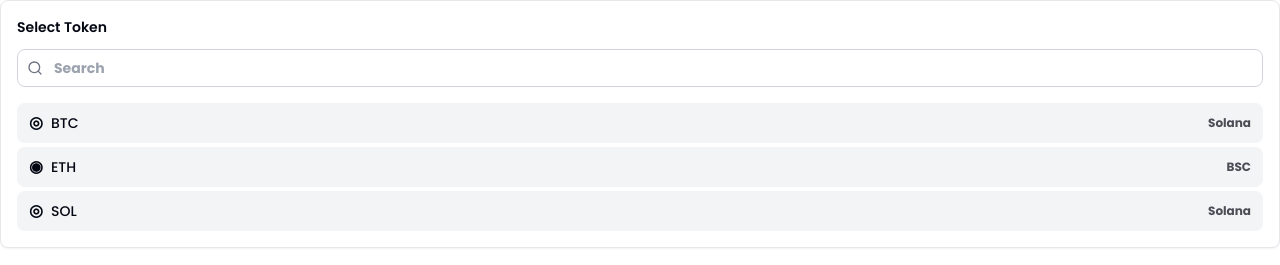
Test case: TokenSelectorSidebar › should filter tokens when searching
The width and height of the screenshot is (1280, 265).
Type "BTC" into the field. click: (640, 68)
box: x1=17 y1=49 x2=1263 y2=87
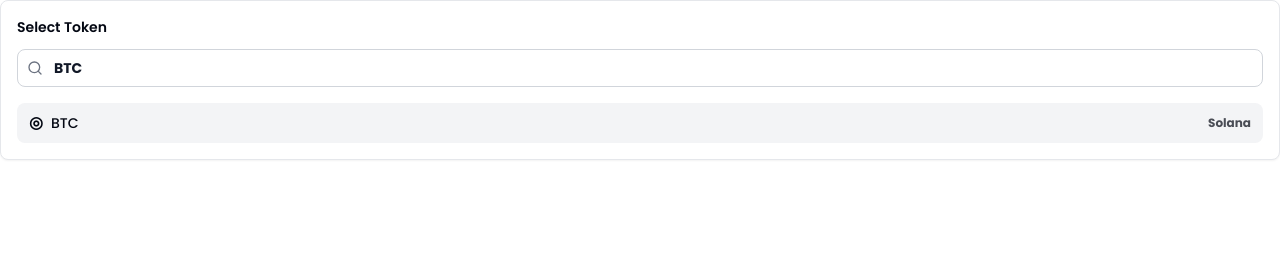
expect the text "BTC" is shown: met, box x1=51 y1=113 x2=78 y2=133
expect the button "ETH" is gone: met
